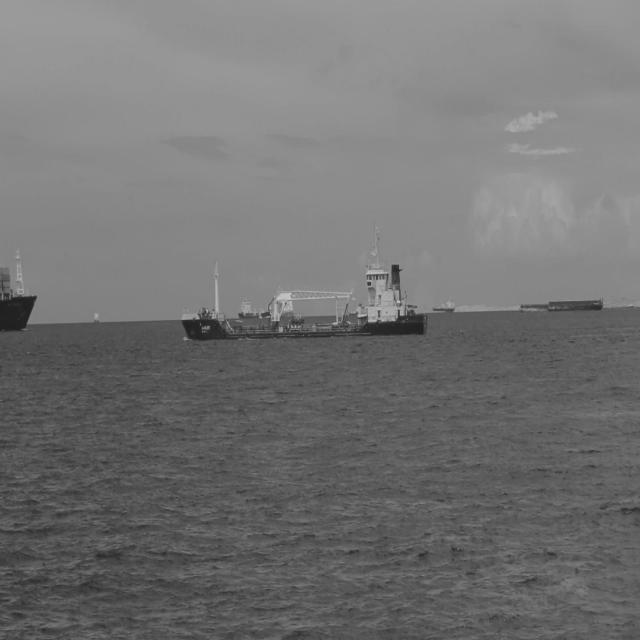ship: (180, 212, 432, 346), (1, 238, 38, 338), (547, 294, 605, 313), (431, 296, 458, 318)
